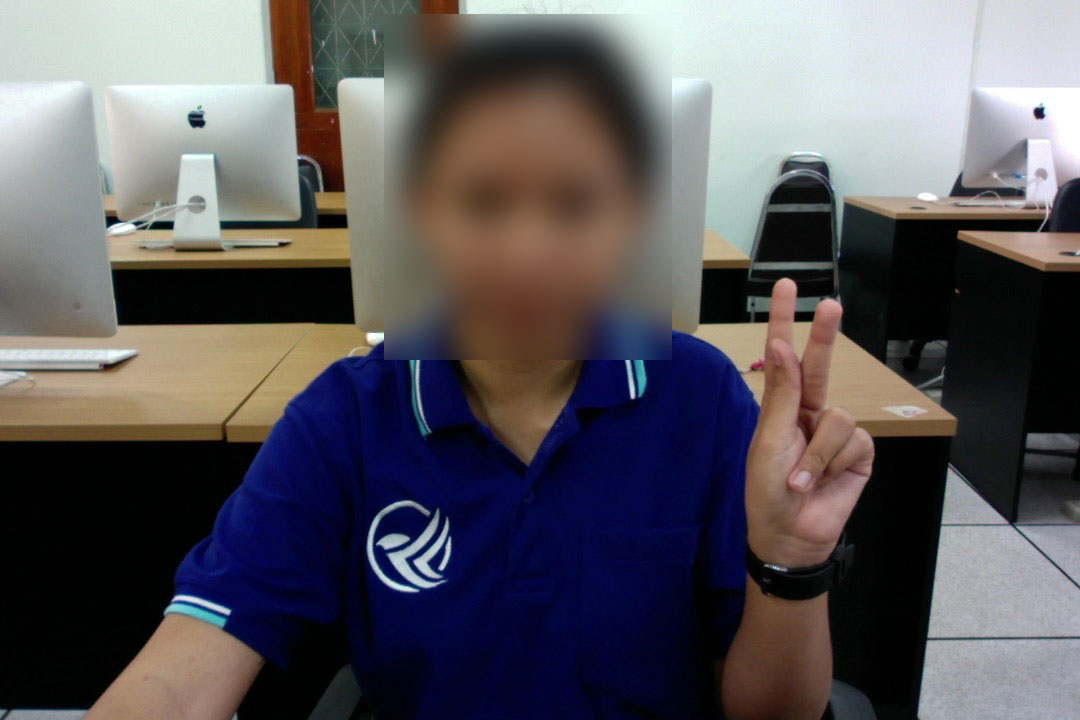ko: (741, 260, 881, 586)
